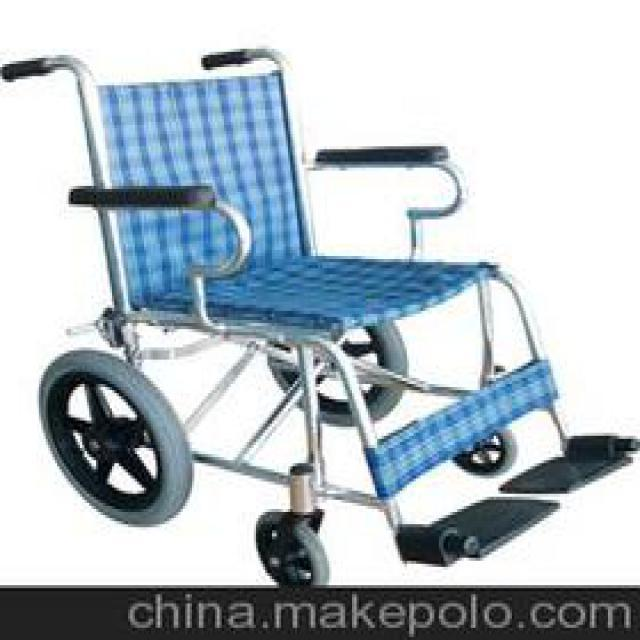wheelchairs: (0, 45, 640, 588)
